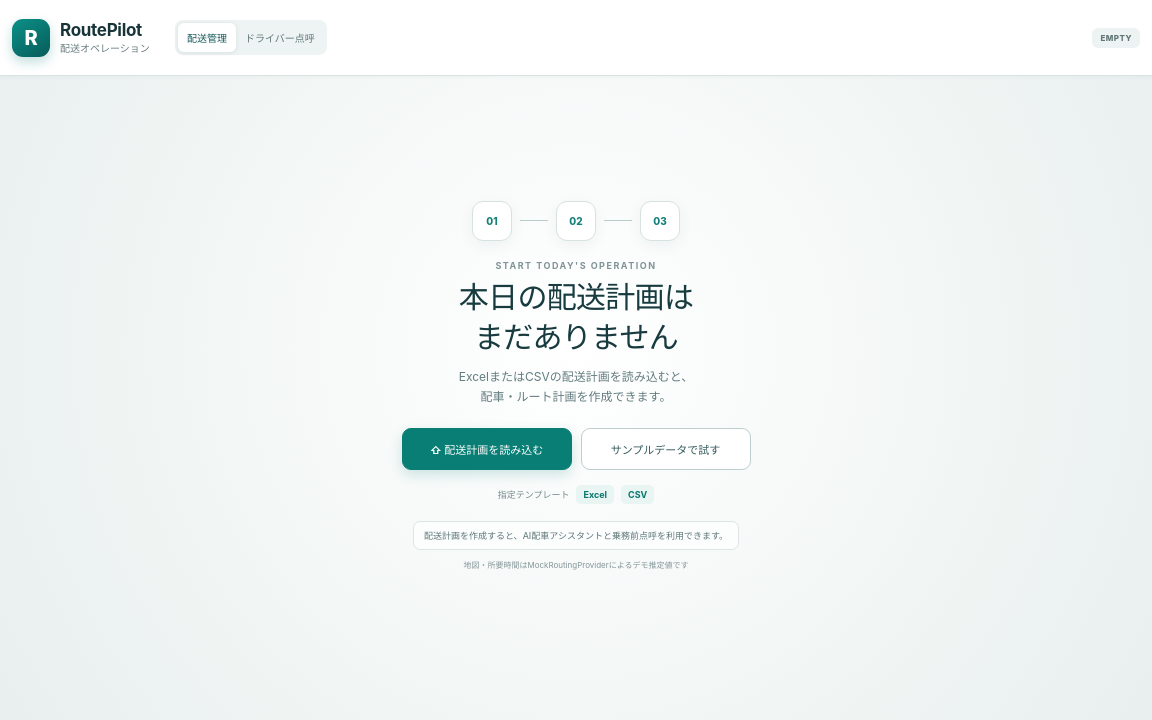
EMPTY・サンプル・完全リセット › EMPTYの点呼ビューでは点呼を開始できない
Click the button "ドライバー点呼" at (280, 38), box [236,23,324,52]
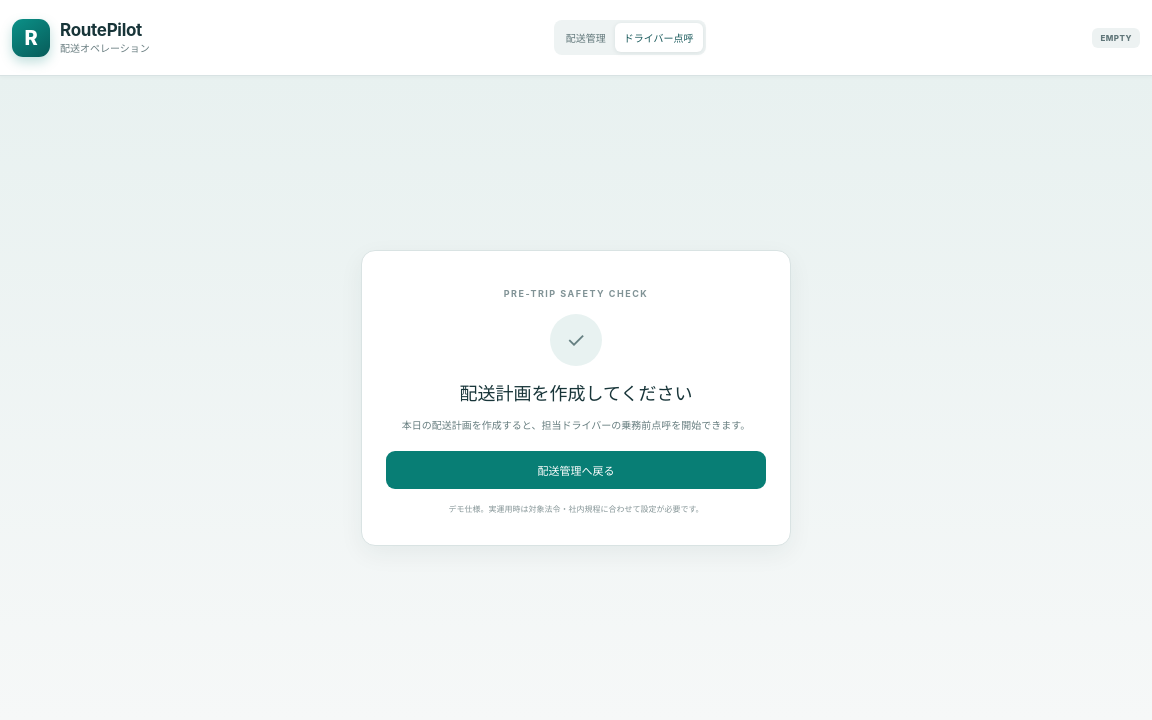
Now the text "本日の配送計画を作成すると、担当ドライバーの乗務前点呼を開始できます。" is shown, box [386,417,766,434]
